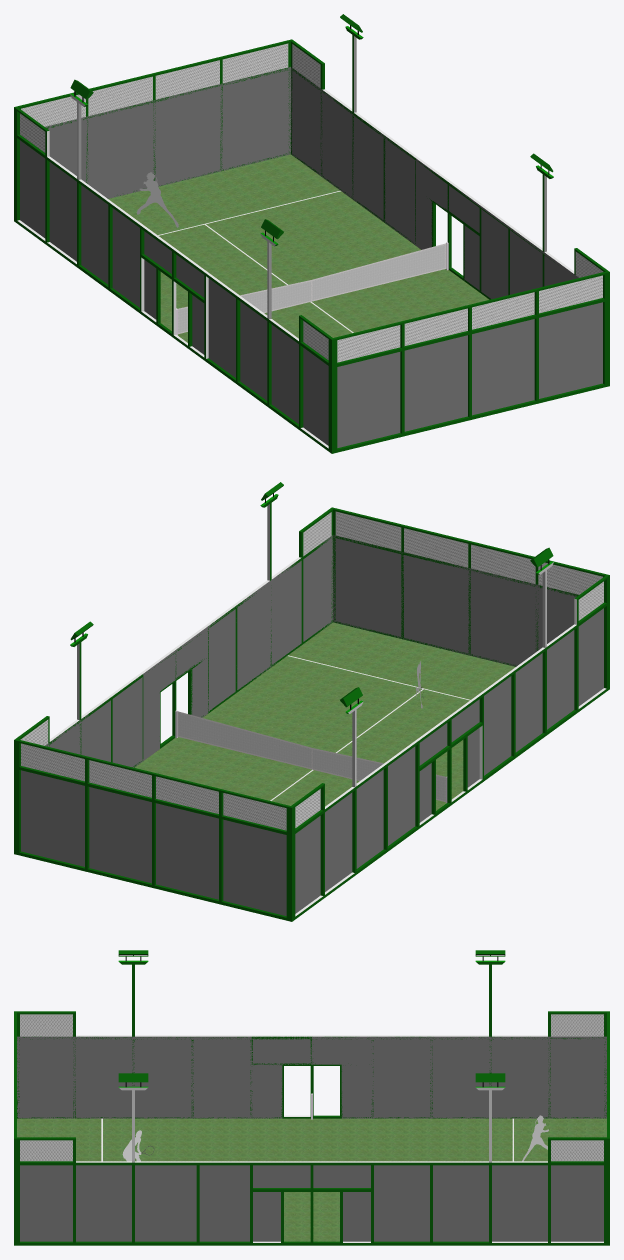
Rendered from padel-court3.glb.
3 views of the same model, one above another, from view 1: azimuth 30°, elevation 25°; view 2: azimuth 150°, elevation 25°; view 3: azimuth 270°, elevation 25° (orthographic). The views are drawn at different scales.
Parts seen in each view (by area): view 1: G-Object.021, G-Object.023, G-Object.009, G-Object.028, G-Object.014, G-Object.011, G-Object.013, G-Object.027, G-Object.026, _G-Object.043 (Loose Mesh), G-Object.024, G-Object.016 (+16 smaller); view 2: G-Object.021, G-Object.009, G-Object.023, G-Object.028, G-Object.024, G-Object.013, G-Object.011, G-Object.037, G-Object.026, _G-Object.043 (Loose Mesh), G-Object.014, G-Object.002 (+16 smaller); view 3: G-Object.013, G-Object.011, G-Object.026, G-Object.024, G-Object.014, G-Object.021, G-Object.028, G-Object.027, G-Object.037, G-Object.015, G-Object.018, G-Object.010 (+9 smaller).
Boxes of the visible parts, x1=… form: G-Object.021: x1=14, y1=39, x2=609, y2=453; G-Object.023: x1=337, y1=302, x2=602, y2=447; G-Object.009: x1=45, y1=67, x2=290, y2=198; G-Object.028: x1=206, y1=191, x2=489, y2=332; G-Object.014: x1=291, y1=68, x2=415, y2=245; G-Object.011: x1=20, y1=140, x2=139, y2=307; G-Object.013: x1=208, y1=278, x2=328, y2=445; G-Object.027: x1=108, y1=154, x2=339, y2=235; G-Object.026: x1=158, y1=224, x2=352, y2=342; _G-Object.043 (Loose Mesh): x1=178, y1=243, x2=446, y2=334; G-Object.024: x1=480, y1=206, x2=578, y2=299; G-Object.016: x1=222, y1=43, x2=288, y2=83; G-Object.021: x1=14, y1=507, x2=609, y2=921; G-Object.009: x1=21, y1=770, x2=286, y2=915; G-Object.023: x1=333, y1=535, x2=578, y2=666; G-Object.028: x1=134, y1=656, x2=421, y2=800; G-Object.024: x1=208, y1=535, x2=332, y2=712; G-Object.013: x1=484, y1=608, x2=603, y2=775; G-Object.011: x1=295, y1=746, x2=415, y2=913; G-Object.037: x1=288, y1=622, x2=515, y2=699; G-Object.026: x1=271, y1=689, x2=469, y2=810; _G-Object.043 (Loose Mesh): x1=177, y1=711, x2=445, y2=802; G-Object.014: x1=45, y1=674, x2=143, y2=767; G-Object.002: x1=335, y1=511, x2=401, y2=551; G-Object.013: x1=17, y1=1036, x2=251, y2=1118; G-Object.011: x1=372, y1=1036, x2=606, y2=1118; G-Object.026: x1=103, y1=1118, x2=512, y2=1161; G-Object.024: x1=20, y1=1165, x2=249, y2=1241; G-Object.014: x1=374, y1=1165, x2=603, y2=1241; G-Object.021: x1=14, y1=1011, x2=609, y2=1245; G-Object.028: x1=284, y1=1192, x2=339, y2=1241; G-Object.027: x1=514, y1=1118, x2=606, y2=1161; G-Object.037: x1=17, y1=1118, x2=101, y2=1161; G-Object.015: x1=251, y1=1064, x2=282, y2=1118; G-Object.018: x1=341, y1=1064, x2=372, y2=1118; G-Object.010: x1=312, y1=1036, x2=372, y2=1064.
Size of the model in its own units: 10.2 by 6.36 by 20.2.
17 materials, 4 textured.
